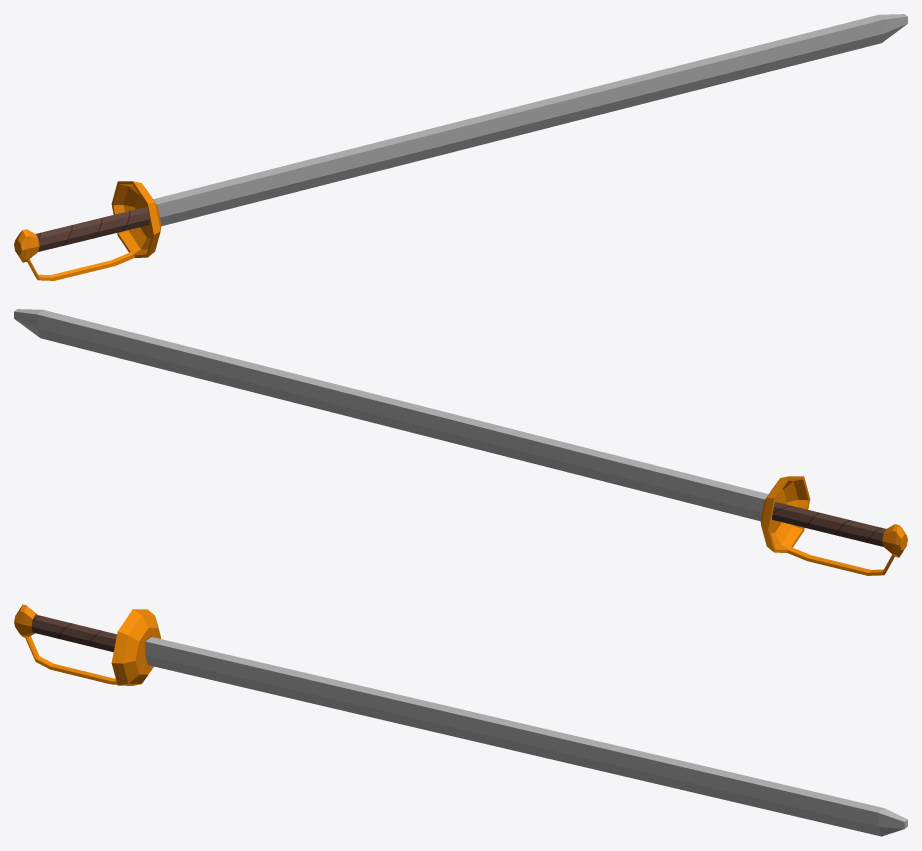
The model's file is MeleeJack.fbx.
3 views of the same model, one above another, from view 1: azimuth 30°, elevation 25°; view 2: azimuth 150°, elevation 25°; view 3: azimuth 330°, elevation 25° (orthographic).
Visible parts, largest first — view 1: Cube; view 2: Cube; view 3: Cube.
Part boxes in pixels (x1,y1,x2,y2): Cube: (14, 14, 907, 280); Cube: (14, 309, 907, 575); Cube: (14, 604, 907, 836).
Bounding box in the file's own units: 158 × 13.6 × 13.03.
